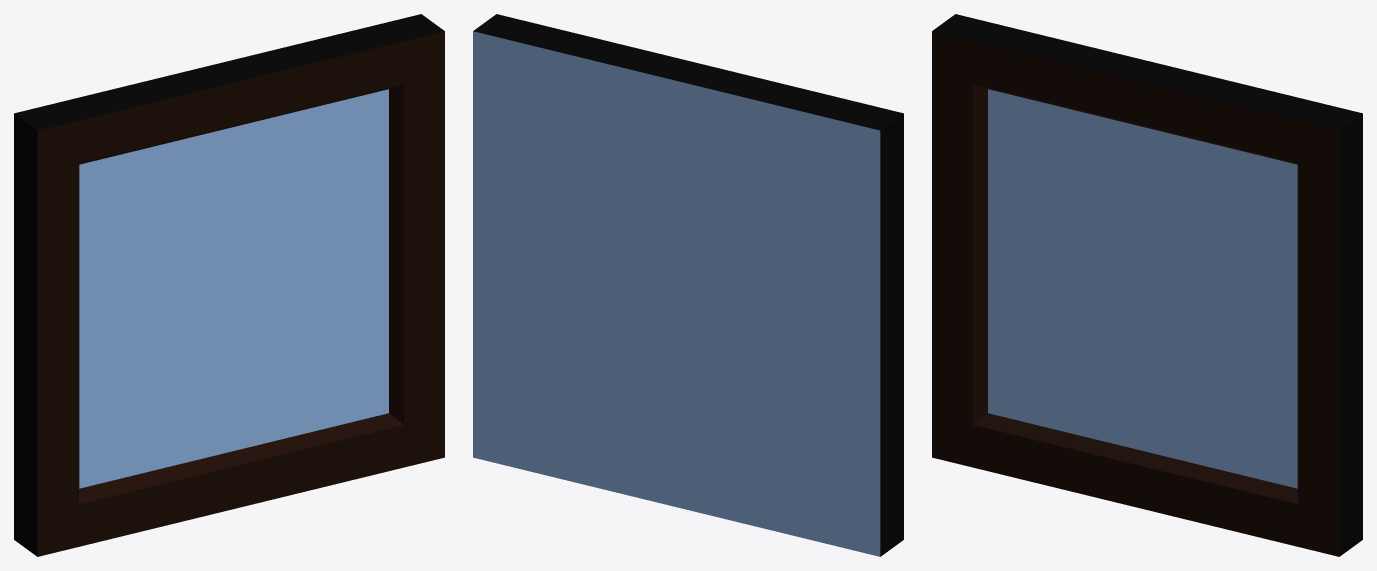
Rendered from Painting 004.FBX.
3 views of the same model, side by side, from view 1: azimuth 30°, elevation 25°; view 2: azimuth 150°, elevation 25°; view 3: azimuth 330°, elevation 25° (orthographic).
Parts seen in each view (by area): view 1: Painting 004; view 2: Painting 004; view 3: Painting 004.
Boxes of the visible parts, left/top/right/bottom form: Painting 004: left=14, top=14, right=444, bottom=556; Painting 004: left=473, top=14, right=903, bottom=556; Painting 004: left=932, top=14, right=1362, bottom=556.
Bounding box in the file's own units: 1 × 1 × 0.1.
